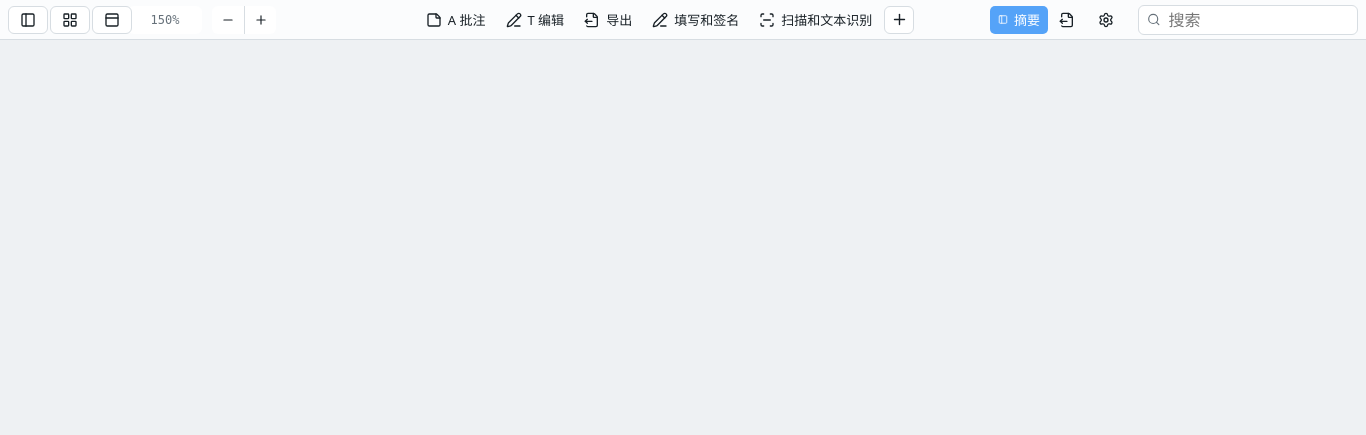
it: Toolbar M2.2：密度与入口收口 › 工具菜单把未接入翻译标为禁用，而不是给出假动作
Click the button named "工具": (899, 20) x1=884 y1=6 x2=914 y2=34
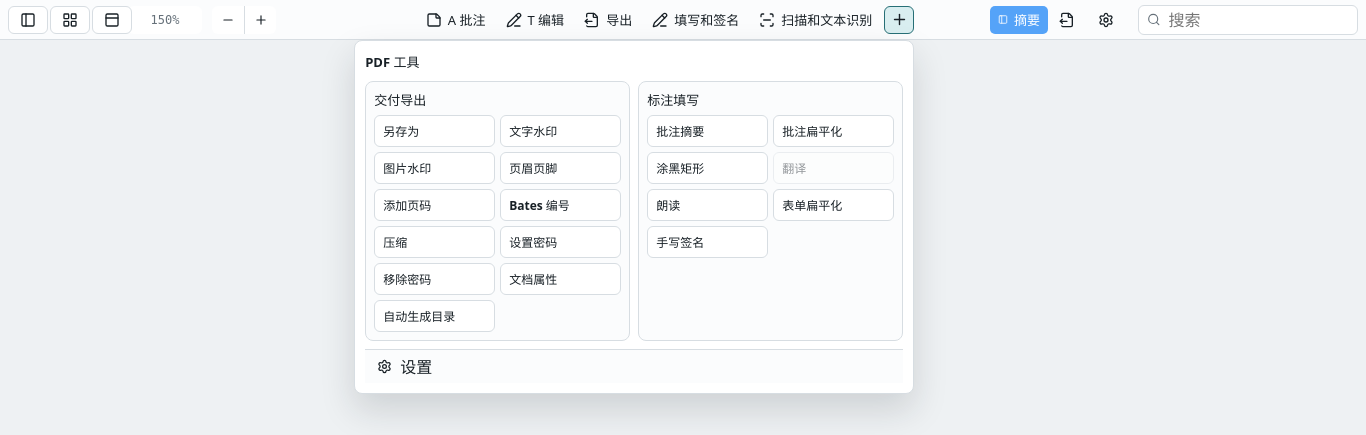
Now the menu item "翻译" is disabled, box x1=773 y1=152 x2=894 y2=184
